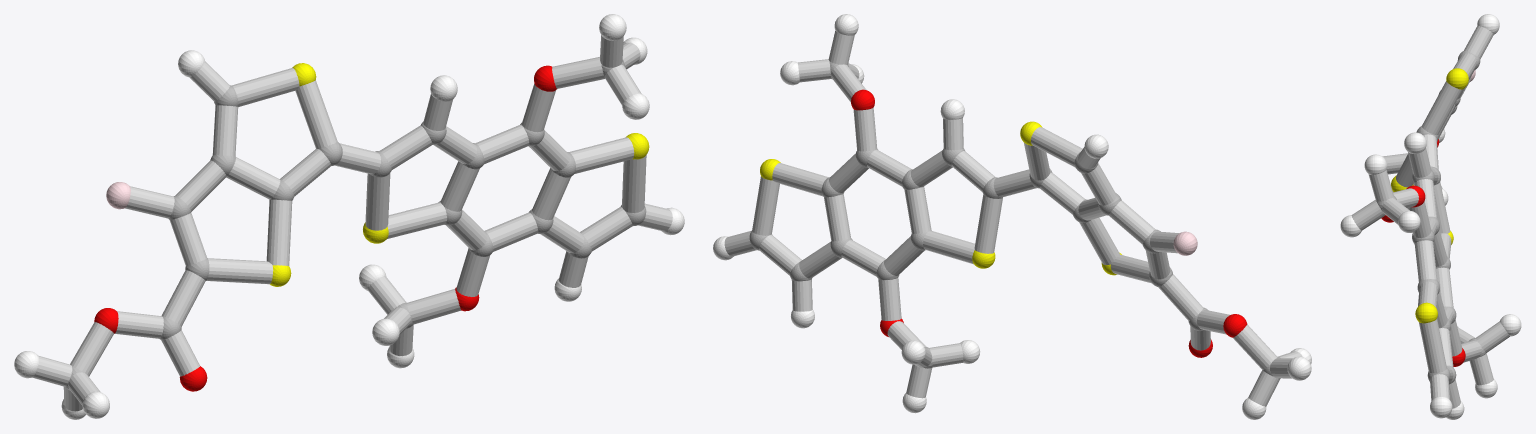
Rendered from Dimethoxy_Benzodithiophene_Phi_25_Theta_30_Methylcarbonyl_3_Fluoro_Thienothiophene.glb.
3 renders of one model, left to right at view 1: azimuth 30°, elevation 25°; view 2: azimuth 150°, elevation 25°; view 3: azimuth 270°, elevation 25°, orthographic. The views are drawn at different scales.
Parts seen in each view (by area): view 1: grp15205, grp8689, grp1, grp13395, grp7241; view 2: grp15205, grp8689, grp1, grp13395, grp7241; view 3: grp15205, grp8689, grp1, grp7241, grp13395.
Boxes of the visible parts, x1=… form: grp15205: x1=32, y1=35, x2=672, y2=411; grp8689: x1=14, y1=14, x2=684, y2=419; grp1: x1=65, y1=60, x2=646, y2=390; grp13395: x1=94, y1=65, x2=556, y2=391; grp7241: x1=270, y1=63, x2=649, y2=286; grp15205: x1=724, y1=31, x2=1302, y2=406; grp8689: x1=713, y1=14, x2=1311, y2=419; grp1: x1=749, y1=61, x2=1280, y2=378; grp13395: x1=851, y1=89, x2=1247, y2=357; grp7241: x1=760, y1=121, x2=1121, y2=275; grp15205: x1=1351, y1=26, x2=1509, y2=408; grp8689: x1=1340, y1=14, x2=1521, y2=419; grp1: x1=1376, y1=50, x2=1486, y2=384; grp7241: x1=1391, y1=68, x2=1468, y2=323; grp13395: x1=1381, y1=139, x2=1465, y2=366.
Size of the model in its own units: 16.89 by 8.79 by 4.81.
